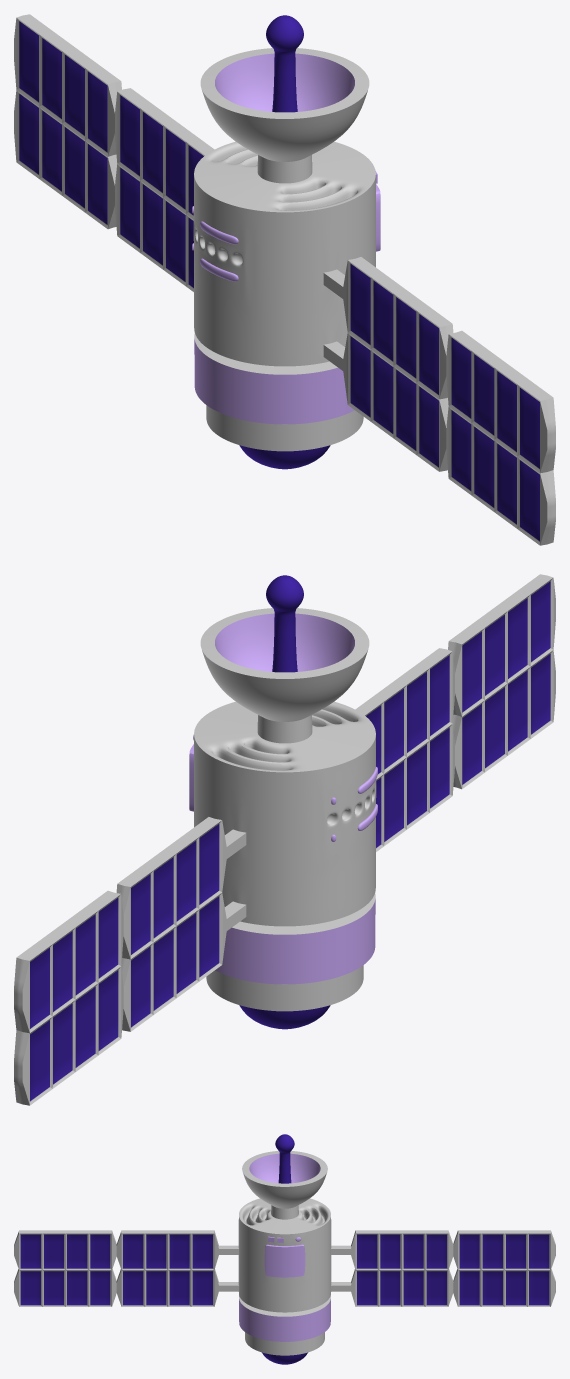
Rendered from satellite.glb.
The picture shows the model from 3 angles, top to bottom: view 1: azimuth 30°, elevation 25°; view 2: azimuth 150°, elevation 25°; view 3: azimuth 270°, elevation 25°; orthographic projection. The views are drawn at different scales.
Parts seen in each view (by area): view 1: Satellite; view 2: Satellite; view 3: Satellite.
Part boxes in pixels (bbox=[...]): Satellite: bbox=[14, 14, 555, 545]; Satellite: bbox=[14, 574, 555, 1105]; Satellite: bbox=[14, 1134, 555, 1364].
Size of the model in its own units: 2.08 by 5.42 by 11.67.
